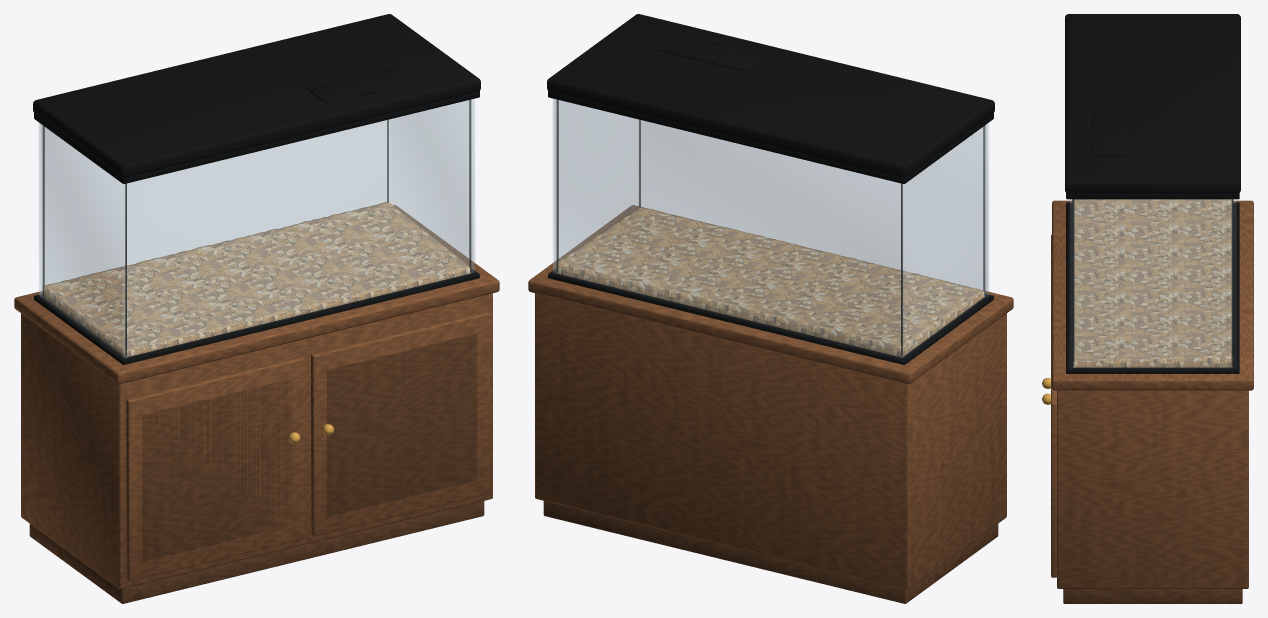
File: tank.glb
3 renders of one model, left to right at view 1: azimuth 30°, elevation 25°; view 2: azimuth 150°, elevation 25°; view 3: azimuth 270°, elevation 25°, orthographic. The views are drawn at different scales.
Visible parts, largest first — view 1: Tank; view 2: Tank; view 3: Tank.
Part boxes in pixels (bbox=[...]): Tank: bbox=[14, 14, 499, 603]; Tank: bbox=[528, 14, 1013, 603]; Tank: bbox=[1042, 14, 1253, 603].
Bounding box in the file's own units: 1.33 × 1.46 × 0.661.
8 materials, 3 textured.
